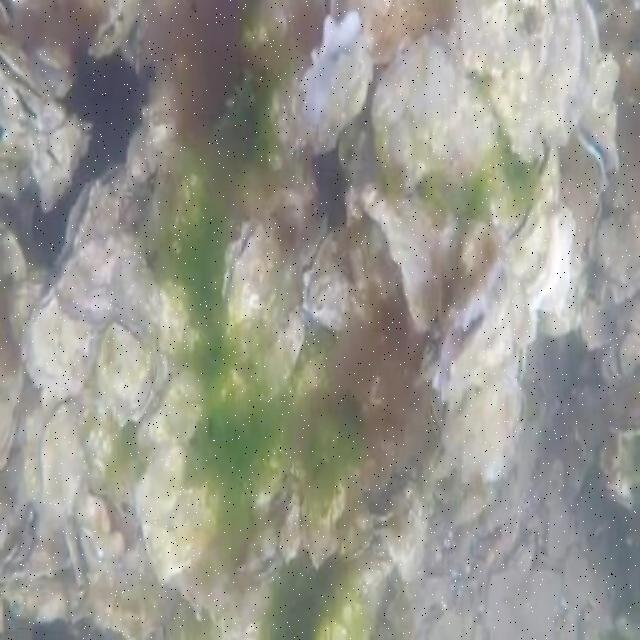Oyster-Closed: (373, 31, 499, 196), (362, 186, 460, 333), (442, 345, 528, 476), (136, 445, 217, 576), (24, 286, 98, 398), (95, 322, 157, 429), (307, 225, 358, 331), (39, 405, 86, 518), (137, 371, 204, 445), (262, 309, 305, 398), (0, 366, 26, 473), (582, 302, 615, 348), (430, 439, 454, 479), (622, 330, 638, 378), (426, 397, 443, 434)
Oyster-Open: (455, 1, 600, 159), (439, 269, 523, 407), (53, 163, 140, 279), (222, 207, 291, 334), (301, 2, 369, 128), (505, 146, 562, 258), (565, 113, 622, 217), (91, 0, 135, 57), (36, 40, 78, 99)
